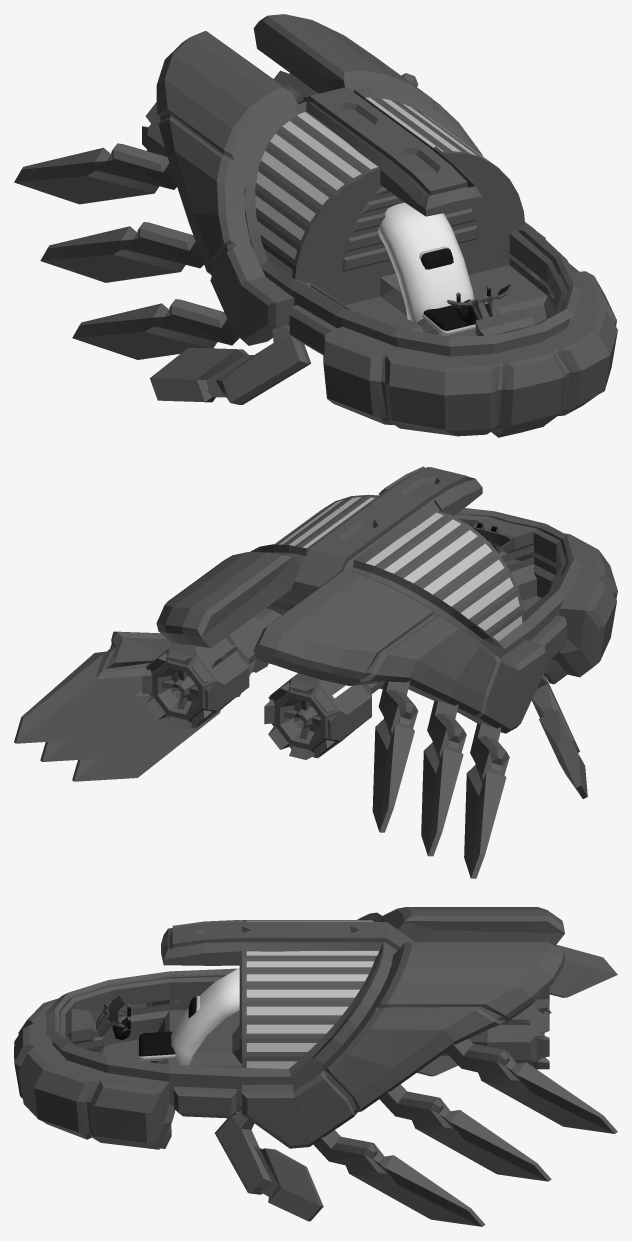
The model's file is cat-330.dae.
The picture shows the model from 3 angles, top to bottom: view 1: azimuth 30°, elevation 25°; view 2: azimuth 150°, elevation 25°; view 3: azimuth 270°, elevation 25°; orthographic projection. The views are drawn at different scales.
Visible parts, largest first — view 1: cat-330; view 2: cat-330; view 3: cat-330.
Boxes of the visible parts, <box> form: cat-330: <box>14,14,617,437</box>; cat-330: <box>14,466,617,878</box>; cat-330: <box>14,907,617,1226</box>.
Size of the model in its own units: 13.22 by 18.12 by 7.25.
